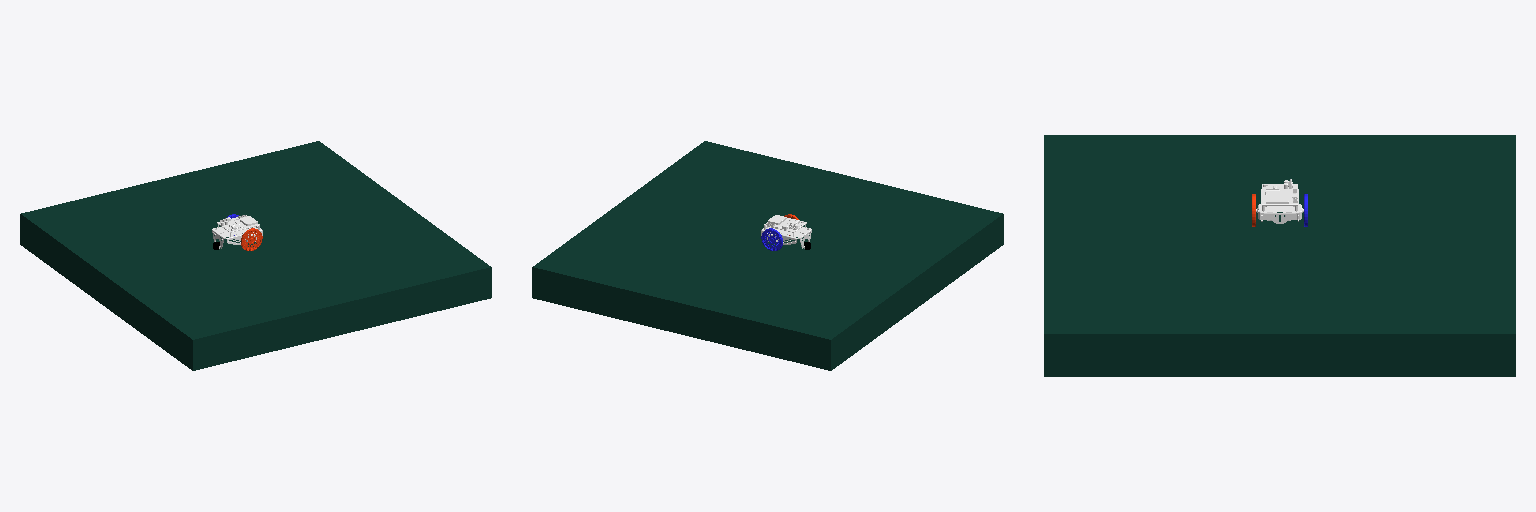
robot.urdf — BB25:
<?xml version="1.0"?>
<?xml-model href="https://raw.githubusercontent.com/ros/urdfdom/master/xsd/urdf.xsd" ?>
<robot name="BB25" xmlns:xacro="http://www.ros.org/wiki/xacro">
    
    <material name="green">
        <color rgba="0.094 0.27 0.23 1"/>
    </material>
    
    <material name="white">
        <color rgba="1 1 1 1"/>
    </material>

    <material name="orange">
        <color rgba="1 0.3 0.1 1"/>
    </material>

    <material name="blue">
        <color rgba="0.2 0.2 1 1"/>
    </material>

    <material name="black">
        <color rgba="0 0 0 1"/>
    </material>

    <!-- Fixed base with contact surface -->
    <link name="base">
        <visual>
            <origin xyz="0 0 -0.05"/>
            <geometry>
                <box size="1.0 1.0 0.1"/>
            </geometry>
            <material name="green"/>
        </visual>
        <collision>
            <origin xyz="0 0 -0.05"/>
            <geometry>
                <box size="1.0 1.0 0.1"/>
            </geometry>
        </collision>
    </link>
    
    <!-- The metal chassis, servos, and circuitry all combine to a single rigid body -->
    <link name="chassis">
        <inertial>
            <origin xyz="-0.06 0 0.05"/>
            <mass value="1.0"/>
            <inertia ixx="0.0006528333333333334" ixy="0" ixz="0" iyy="0.0014283533333333334" iyz="0" izz="0.0019126466666666668"/>
        </inertial>
        <visual>
            <origin xyz="0 0 0"/>
            <geometry>
                <mesh filename="chassis.stl"/>
            </geometry>
            <material name="white"/>
        </visual>
        <collision>
            <origin xyz="0 0 0"/>
            <geometry>
                <!-- <box size="0.12 0.1 0.05"/> -->
                <mesh filename="chassis.stl"/>
            </geometry>
        </collision>
    </link>
    
    <!-- The differential drive wheels on the left and right side of the chassis. The local wheel axis is -Z. -->
    <link name="right_wheel">
        <inertial>
            <origin xyz="0 0 0"/>
            <mass value="0.1"/>
            <inertia ixx="0.0001" ixy="0" ixz="0" iyy="0.0001" iyz="0" izz="0.0001"/>
        </inertial>
        <visual>
            <origin xyz="0 0 0"/>
            <geometry>
                <mesh filename="wheel.stl"/>
            </geometry>
            <material name="orange"/>
        </visual>
        <collision>
            <origin xyz="0 0 0"/>
            <geometry>
                <!--cylinder radius="0.035" length="0.005"/-->
                <mesh filename="wheel.stl"/>
            </geometry>
        </collision>
    </link>
    <link name="left_wheel">
        <inertial>
            <origin xyz="0 0 0"/>
            <mass value="0.1"/>
            <inertia ixx="0.0001" ixy="0" ixz="0" iyy="0.0001" iyz="0" izz="0.0001"/>
        </inertial>
        <visual>
            <origin xyz="0 0 0"/>
            <geometry>
                <mesh filename="wheel.stl"/>
            </geometry>
            <material name="blue"/>
        </visual>
        <collision>
            <origin xyz="0 0 0"/>
            <geometry>
                <!-- <cylinder radius="0.035" length="0.005"/> -->
                <mesh filename="wheel.stl"/>
            </geometry>
        </collision>
    </link>
    
    <!-- The rear caster wheel that balances the robot -->
    <link name="rear_wheel">
        <inertial>
            <origin xyz="0 0 0"/>
            <mass value="0.1"/>
            <inertia ixx="0.0001" ixy="0" ixz="0" iyy="0.0001" iyz="0" izz="0.0001"/>
        </inertial>
        <visual>
            <origin xyz="0 0 0"/>
            <geometry>
                <sphere radius="0.0127"/>
            </geometry>
            <material name="black"/>
        </visual>
        <collision>
            <origin xyz="0 0 0"/>
            <geometry>
                <sphere radius="0.0127"/>
            </geometry>
        </collision>
    </link>

    <!-- The chassis has free motion relative to the base -->
    <joint name="6DoF" type="floating">
        <parent link="base"/>
        <child link="chassis"/>
    </joint>

    <!-- The right and left wheels can rotate about the Y-axis of the chassis, local Z-axis of the wheels -->
    <joint name="right" type="continuous">
        <parent link="chassis"/>
        <child link="right_wheel"/>
        <origin xyz="-0.04645 -0.0555 0.035" rpy="-1.570796327 0 0"/>
        <axis xyz="0 0 1"/>
    </joint>
    <joint name="left" type="continuous">
        <parent link="chassis"/>
        <child link="left_wheel"/>
        <origin xyz="-0.04645 0.0555 0.035" rpy="1.570796327 0 0"/>
        <axis xyz="0 0 1"/>
    </joint>
    
    <!-- The rear caster wheel can rotate about the Y-axis of the chassis -->
    <joint name="rear" type="continuous">
        <parent link="chassis" />
        <child link="rear_wheel" />
        <origin xyz="-0.130752 0 0.0127" />
        <axis xyz="0 1 0" />
    </joint>
    
    
    <transmission name="left_wheel_trans">
      <type>transmission_interface/SimpleTransmission</type>
      <joint name="left">
        <hardwareInterface>EffortJointInterface</hardwareInterface>
      </joint>
      <actuator name="left_wheel_motor">
        <hardwareInterface>EffortJointInterface</hardwareInterface>
        <mechanicalReduction>1</mechanicalReduction>
      </actuator>
    </transmission>

    <transmission name="right_wheel_trans">
      <type>transmission_interface/SimpleTransmission</type>
      <joint name="right">
        <hardwareInterface>EffortJointInterface</hardwareInterface>
      </joint>
      <actuator name="right_wheel_motor">
        <hardwareInterface>EffortJointInterface</hardwareInterface>
        <mechanicalReduction>1</mechanicalReduction>
      </actuator>
    </transmission>
    
</robot>

--- Render facts (derived) ---
3 views of the same robot in one strip: view 1: azimuth 30°, elevation 25°; view 2: azimuth 150°, elevation 25°; view 3: azimuth 270°, elevation 25° (orthographic).
Model BB25 with 5 links and 4 joints (3 continuous, 1 floating), rooted at base, posed every joint at zero.
Visible links, largest first — view 1: base, chassis; view 2: base, chassis; view 3: base, chassis.
Boxes of the visible links, x1,y1,x2,y2 form: base: [20, 141, 491, 370]; chassis: [212, 215, 262, 248]; base: [532, 141, 1003, 370]; chassis: [761, 215, 811, 248]; base: [1044, 135, 1515, 376]; chassis: [1256, 179, 1303, 223].
Bounding box of the posed robot: 1 × 1 × 0.1794 m (x, y, z).
Meshes: 2 distinct files referenced, 3 mesh visuals loaded (2 binary STL).